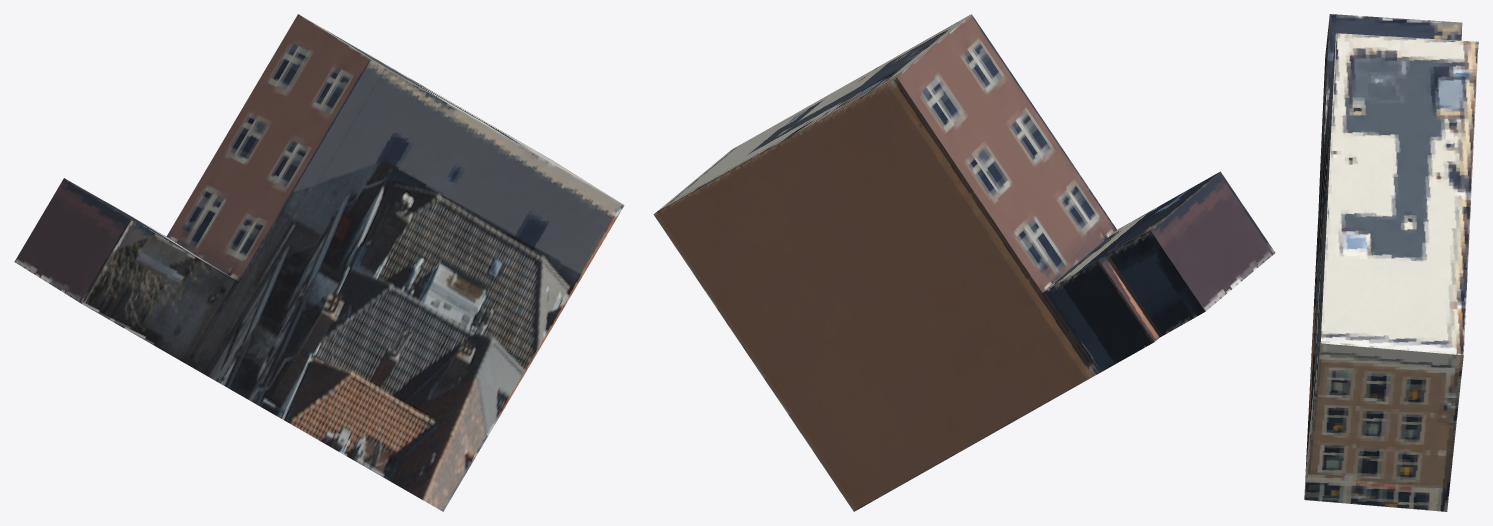
The picture shows the model from 3 angles, left to right: view 1: azimuth 30°, elevation 25°; view 2: azimuth 150°, elevation 25°; view 3: azimuth 270°, elevation 25°; orthographic projection. The views are drawn at different scales.
Parts seen in each view (by area): view 1: BAG_0599100000671694 (×4); view 2: BAG_0599100000671694 (×5); view 3: BAG_0599100000671694 (×4).
Part boxes in pixels (left/top/right/bottom): BAG_0599100000671694 (×4): left=14, top=14, right=624, bottom=511; BAG_0599100000671694 (×5): left=653, top=14, right=1275, bottom=511; BAG_0599100000671694 (×4): left=1304, top=14, right=1478, bottom=511.
Bounding box in the file's own units: 27.11 × 22.15 × 7.77.
1 material, 1 textured.
